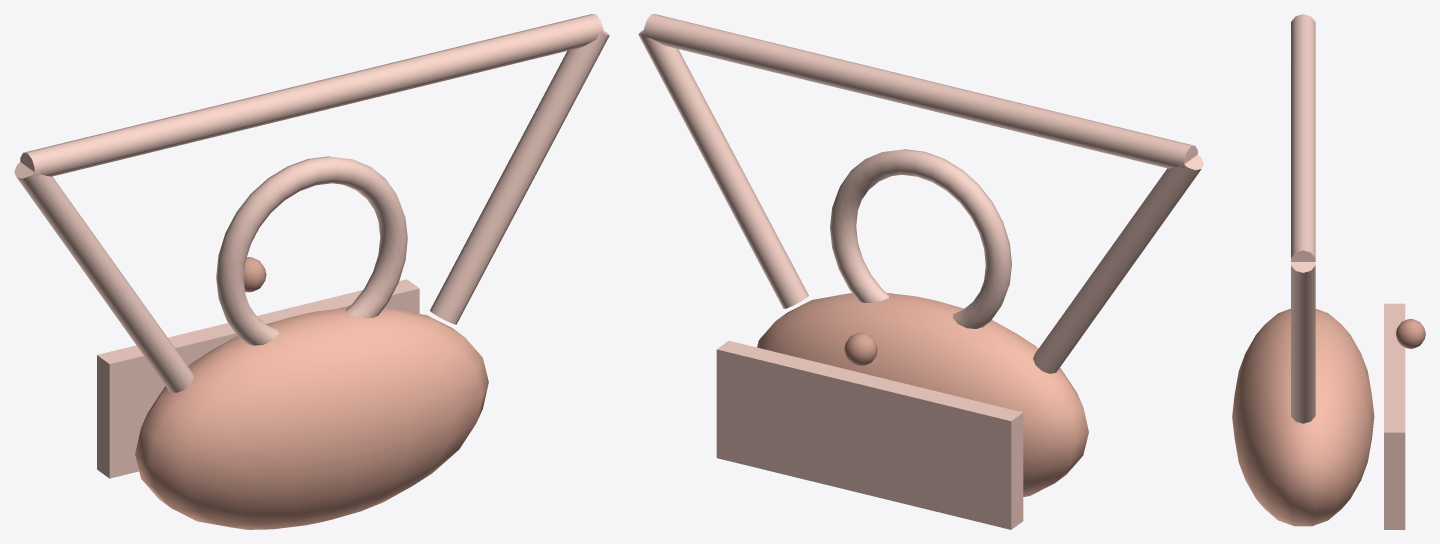
File: VM-DAM-SH39914289.glb
3 renders of one model, left to right at view 1: azimuth 30°, elevation 25°; view 2: azimuth 150°, elevation 25°; view 3: azimuth 270°, elevation 25°, orthographic. The views are drawn at different scales.
Visible parts, largest first — view 1: Bolso Tote Jacquard Bordado Primavera; view 2: Bolso Tote Jacquard Bordado Primavera; view 3: Bolso Tote Jacquard Bordado Primavera.
Part boxes in pixels (bbox=[...]): Bolso Tote Jacquard Bordado Primavera: bbox=[14, 14, 609, 529]; Bolso Tote Jacquard Bordado Primavera: bbox=[638, 14, 1203, 529]; Bolso Tote Jacquard Bordado Primavera: bbox=[1232, 14, 1425, 529].
Size of the model in its own units: 0.5673 by 0.3976 by 0.1892.
